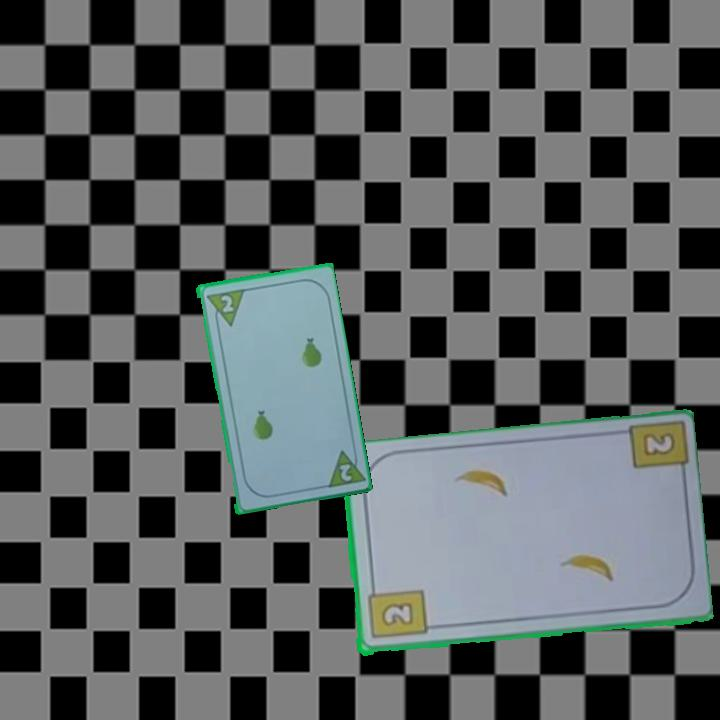2b: (364, 581, 429, 642), (638, 427, 678, 460)
2p: (321, 443, 366, 490), (216, 291, 236, 315)
